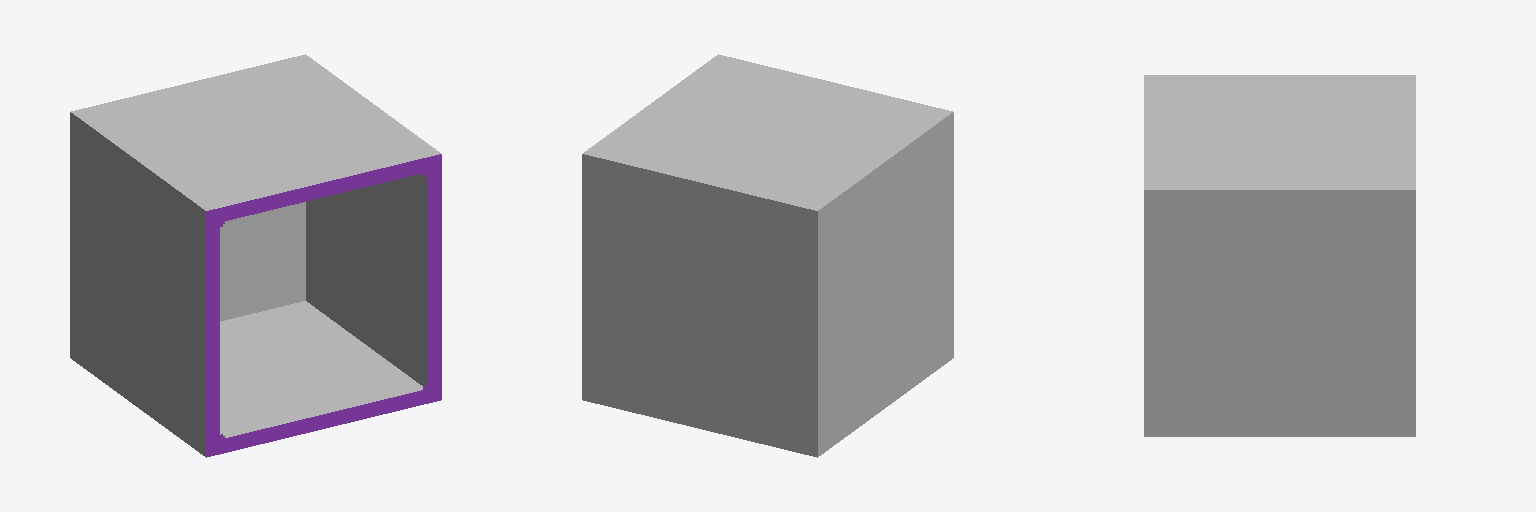
3 views of the same model, side by side, from view 1: azimuth 30°, elevation 25°; view 2: azimuth 150°, elevation 25°; view 3: azimuth 270°, elevation 25° (orthographic).
Visible parts, largest first — view 1: Cube_Cube.001; view 2: Cube_Cube.001; view 3: Cube_Cube.001.
Boxes of the visible parts, box(x1,y1,x2,y2) form: Cube_Cube.001: box(70, 54, 441, 457); Cube_Cube.001: box(582, 54, 953, 457); Cube_Cube.001: box(1144, 75, 1415, 436).
Bounding box in the file's own units: 2 × 2 × 2.
Materials: 2 (1 with a texture image).